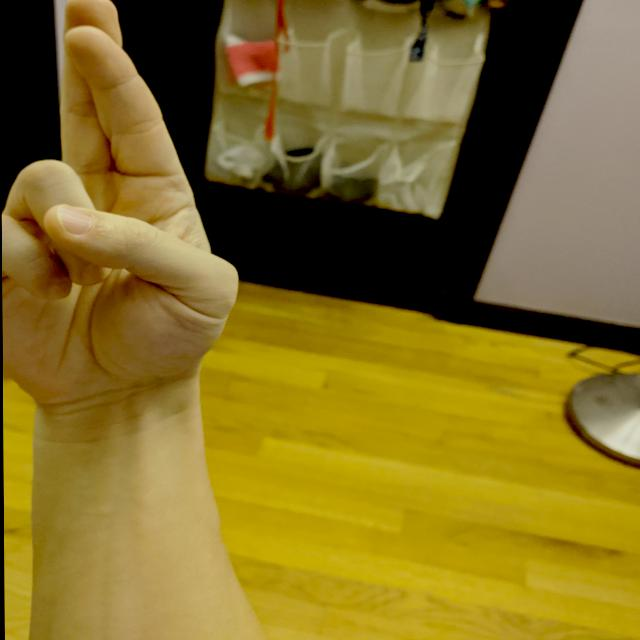R: (0, 0, 248, 412)
